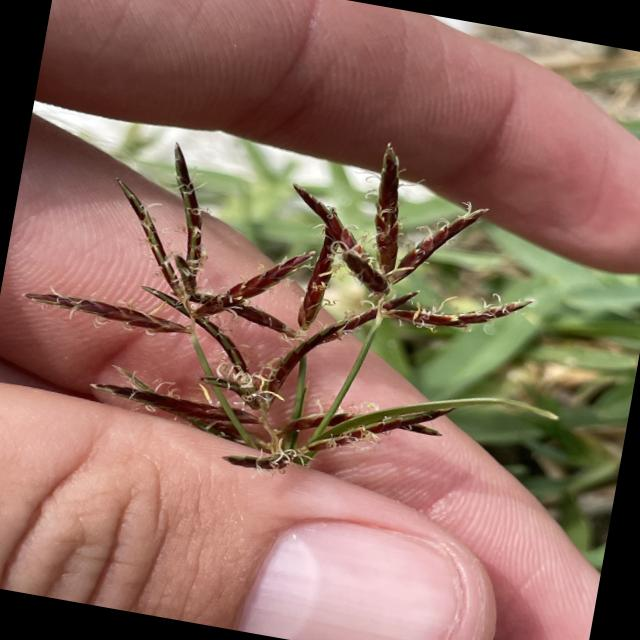cyperus: (0, 77, 572, 528)
